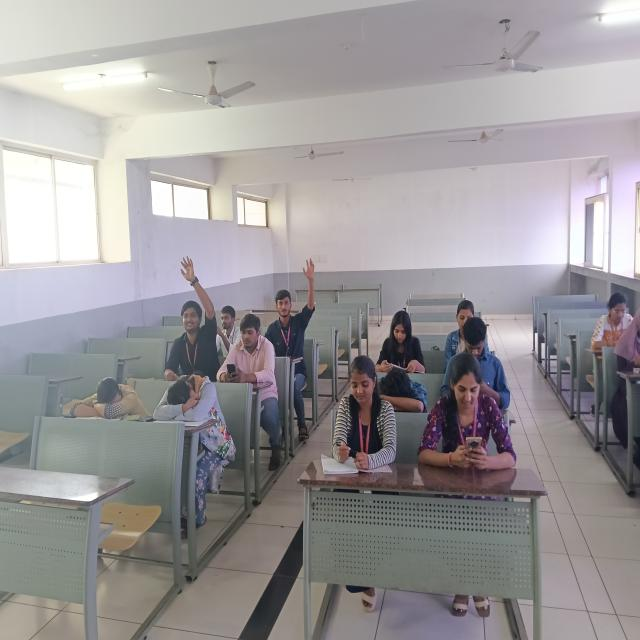Hand Rising: (259, 242, 334, 444), (143, 203, 228, 381)
Reading: (369, 295, 430, 380)
Sleeping: (154, 377, 237, 529), (53, 352, 150, 472)
Using Phone: (414, 350, 535, 517)
